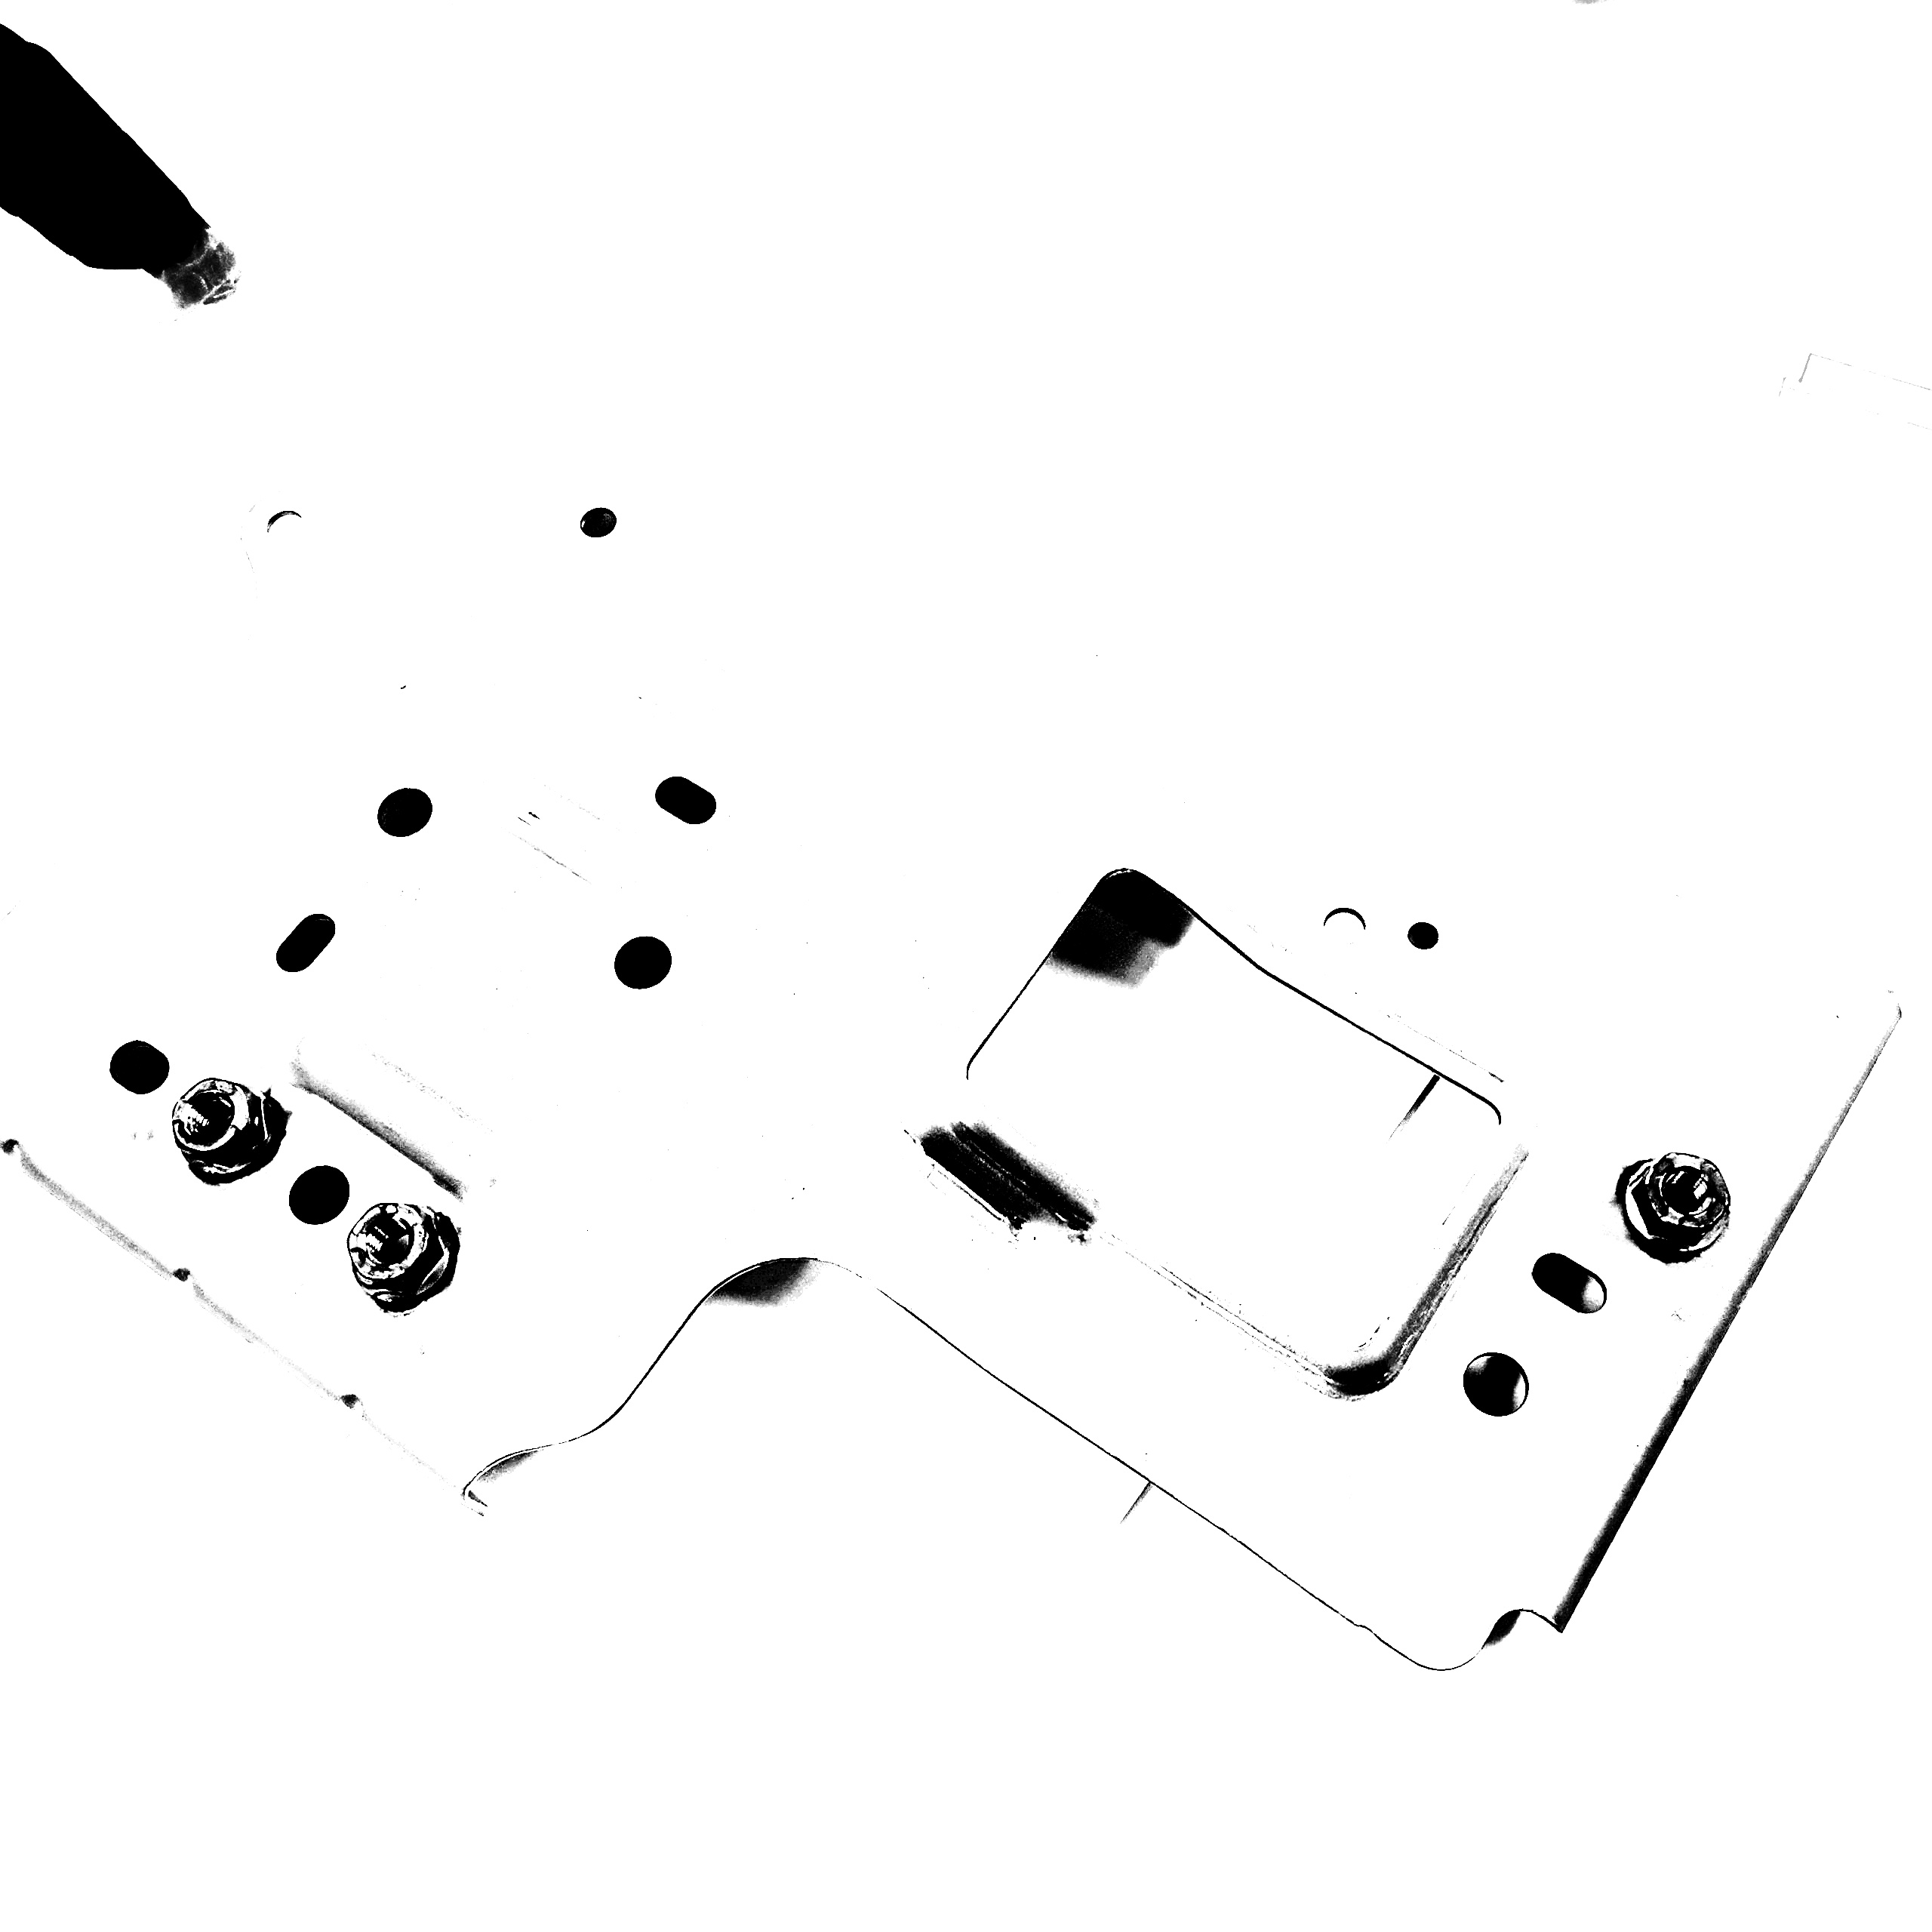dog: (345, 1192, 465, 1316), (1606, 1145, 1730, 1265), (170, 1069, 290, 1189)
